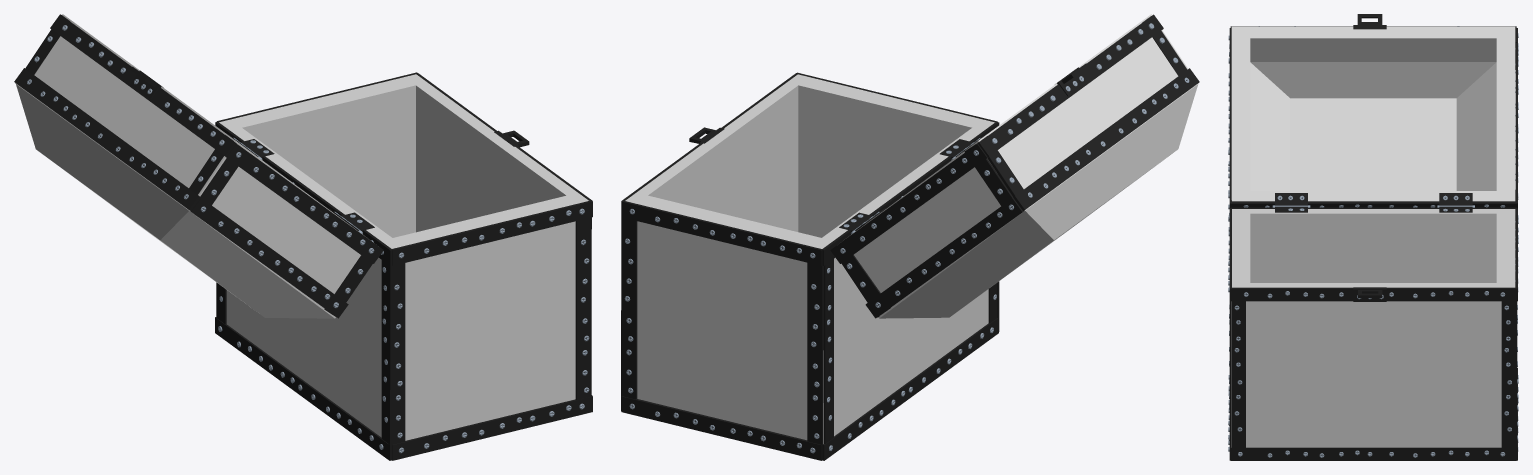
File: chest_O-1.fbx
3 views of the same model, side by side, from view 1: azimuth 30°, elevation 25°; view 2: azimuth 150°, elevation 25°; view 3: azimuth 270°, elevation 25° (orthographic). The views are drawn at different scales.
Visible parts, largest first — view 1: chest_O; view 2: chest_O; view 3: chest_O.
Part boxes in pixels (x1=…): chest_O: x1=14, y1=14, x2=592, y2=460; chest_O: x1=621, y1=14, x2=1199, y2=460; chest_O: x1=1228, y1=14, x2=1518, y2=460.
Bounding box in the file's own units: 84.24 × 70.03 × 61.37.
